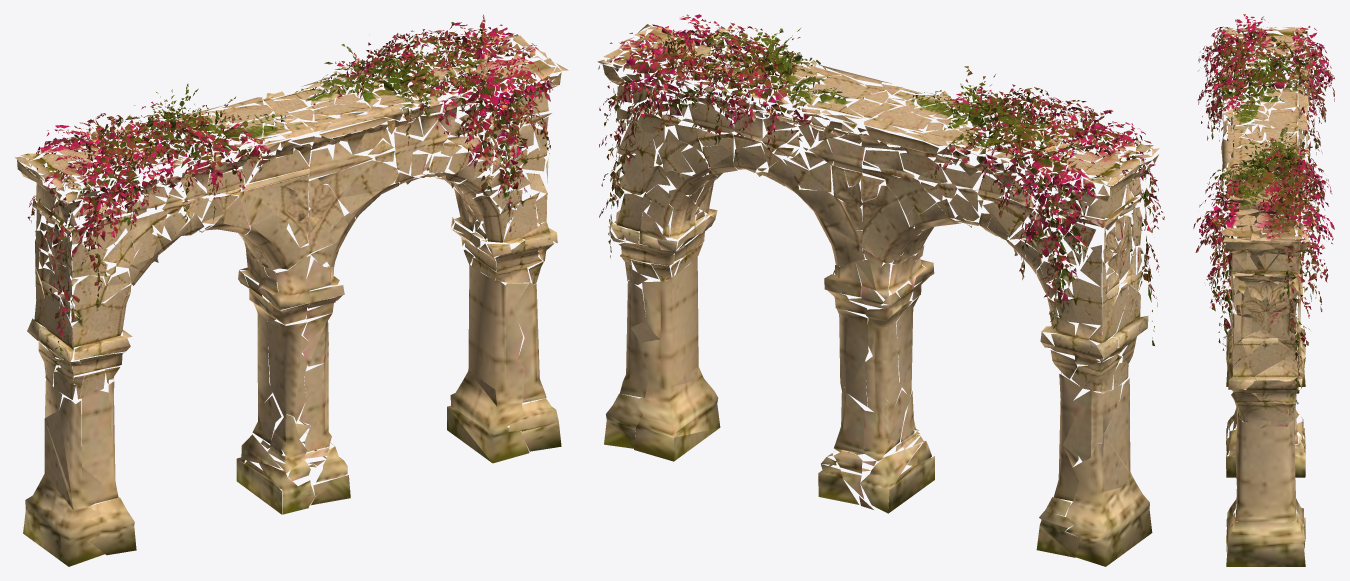
File: acueducto.glb
The picture shows the model from 3 angles, left to right: view 1: azimuth 30°, elevation 25°; view 2: azimuth 150°, elevation 25°; view 3: azimuth 270°, elevation 25°; orthographic projection. The views are drawn at different scales.
Visible parts, largest first — view 1: Mesh_0; view 2: Mesh_0; view 3: Mesh_0.
Part boxes in pixels (left/top/right/bottom): Mesh_0: left=15, top=14, right=568, bottom=566; Mesh_0: left=597, top=14, right=1164, bottom=566; Mesh_0: left=1193, top=14, right=1334, bottom=566.
Size of the model in its own units: 1.89 by 1.46 by 0.5089.
1 material, 1 textured.
